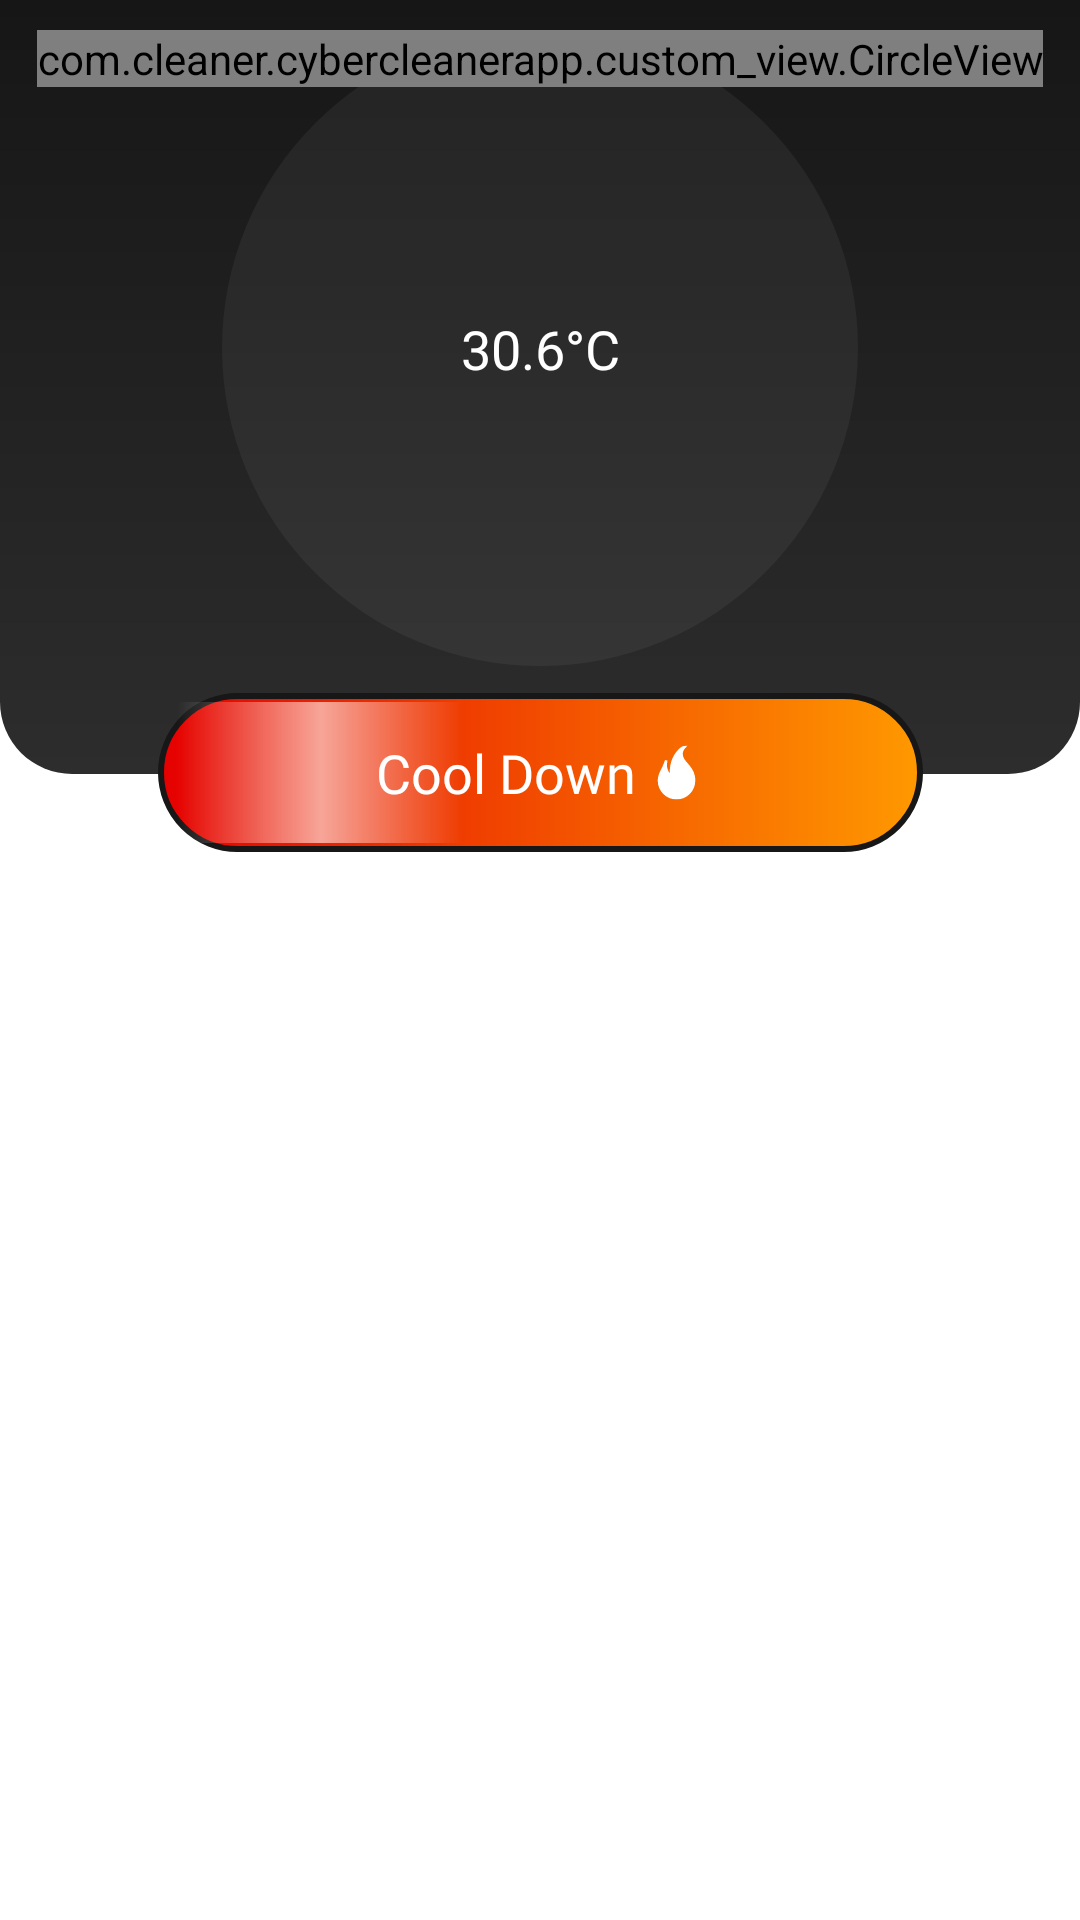

Icon click points for this 1080×1920 phone screenshot, format (x,y):
fire: (676,772)
